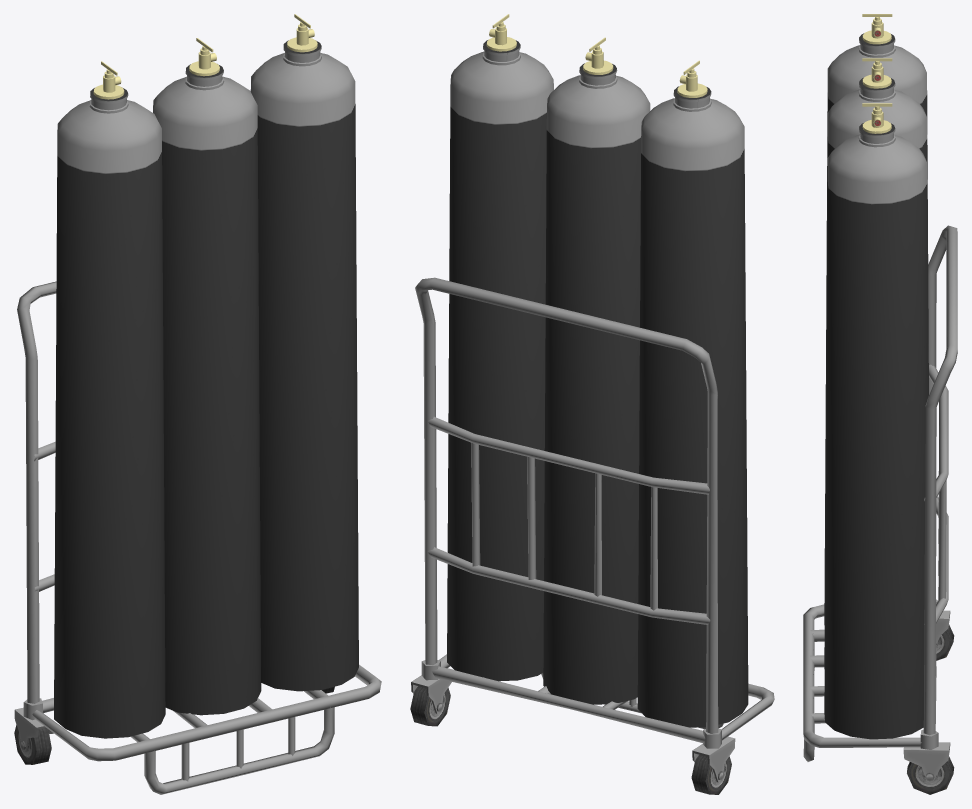
The model's file is Trolley_Cylinder01.fbx.
The picture shows the model from 3 angles, left to right: view 1: azimuth 30°, elevation 25°; view 2: azimuth 150°, elevation 25°; view 3: azimuth 270°, elevation 25°; orthographic projection. The views are drawn at different scales.
Visible parts, largest first — view 1: Cylinder_L2, Cylinder_L1, Cylinder_L3, Trolleys01, Trolleys01_W2; view 2: Cylinder_L2, Cylinder_L1, Cylinder_L3, Trolleys01, Trolleys01_W2, Trolleys01_W1; view 3: Cylinder_L1, Trolleys01, Cylinder_L3, Cylinder_L2, Trolleys01_W1, Trolleys01_W2.
Part boxes in pixels (<box>): Cylinder_L2: <box>54,61,165,738</box>; Cylinder_L1: <box>250,14,358,691</box>; Cylinder_L3: <box>153,38,261,715</box>; Trolleys01: <box>17,281,381,794</box>; Trolleys01_W2: <box>14,698,53,764</box>; Cylinder_L2: <box>637,60,748,727</box>; Cylinder_L1: <box>447,14,553,681</box>; Cylinder_L3: <box>543,37,650,704</box>; Trolleys01: <box>415,277,774,743</box>; Trolleys01_W2: <box>691,728,735,794</box>; Trolleys01_W1: <box>410,660,453,726</box>; Cylinder_L1: <box>824,103,928,739</box>; Trolleys01: <box>803,225,957,761</box>; Cylinder_L3: <box>824,58,928,668</box>; Cylinder_L2: <box>824,14,928,624</box>; Trolleys01_W1: <box>903,729,954,794</box>; Trolleys01_W2: <box>936,599,954,660</box>.
Bounding box in the file's own units: 0.2873 × 0.6321 × 0.1325.
